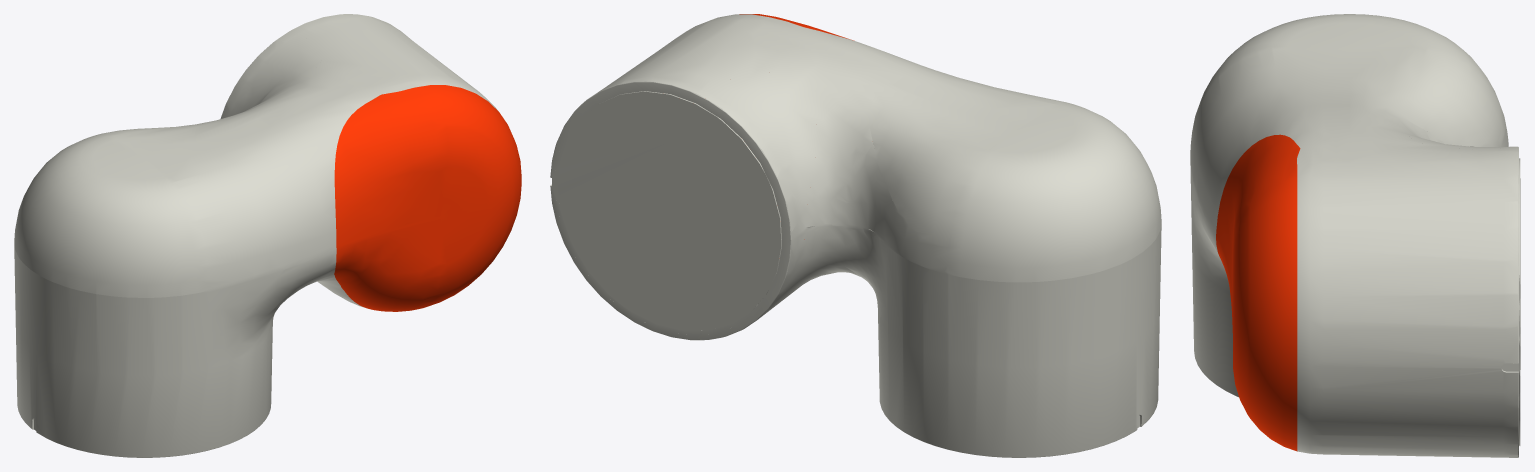
3 renders of one model, left to right at view 1: azimuth 30°, elevation 25°; view 2: azimuth 150°, elevation 25°; view 3: azimuth 270°, elevation 25°, orthographic. The views are drawn at different scales.
Visible parts, largest first — view 1: Mesh (×3); view 2: Mesh (×3); view 3: Mesh (×3).
Boxes of the visible parts, x1,y1,x2,y2 form: Mesh (×3): (14, 14, 521, 457); Mesh (×3): (550, 14, 1161, 457); Mesh (×3): (1190, 14, 1518, 457).
Size of what is drawn, in the model's own units: 133 by 74.79 by 65.81.
